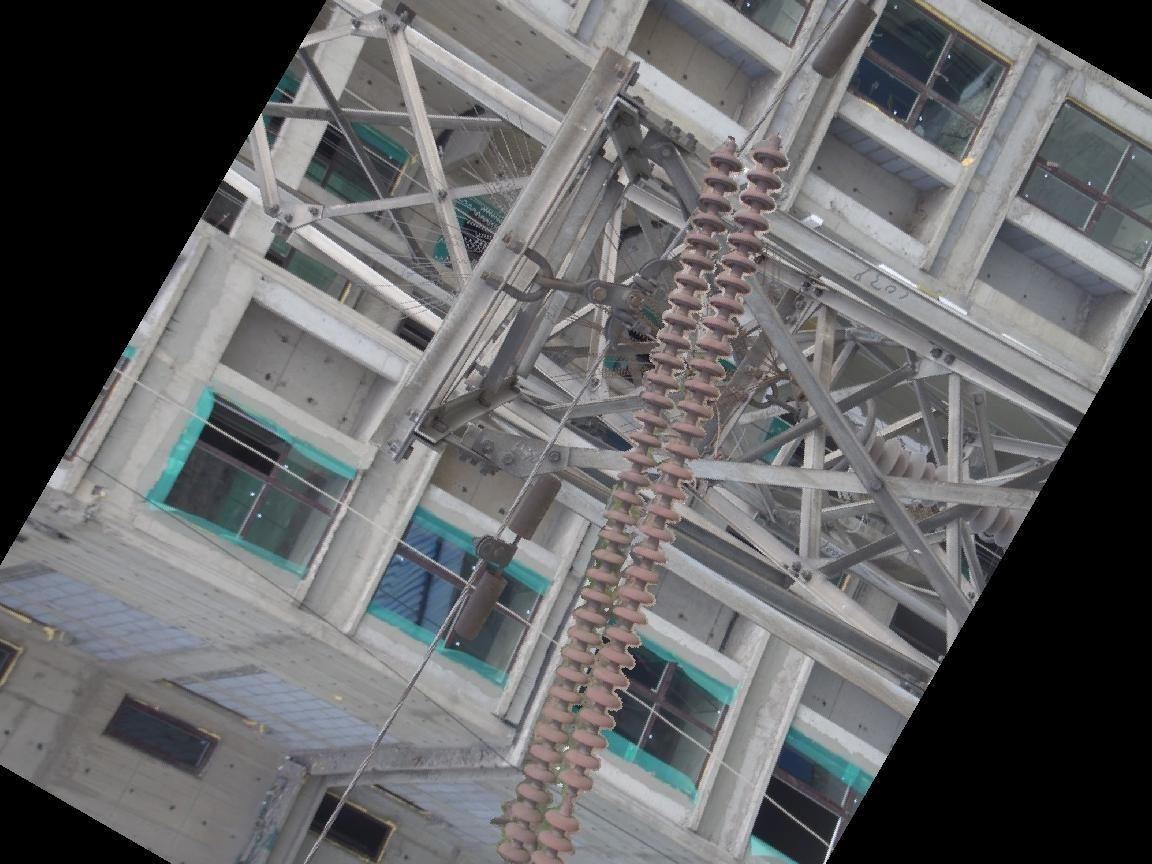insulator: (492, 134, 793, 864), (854, 421, 1022, 551)
insulator_stringdrop: (538, 766, 596, 834)
